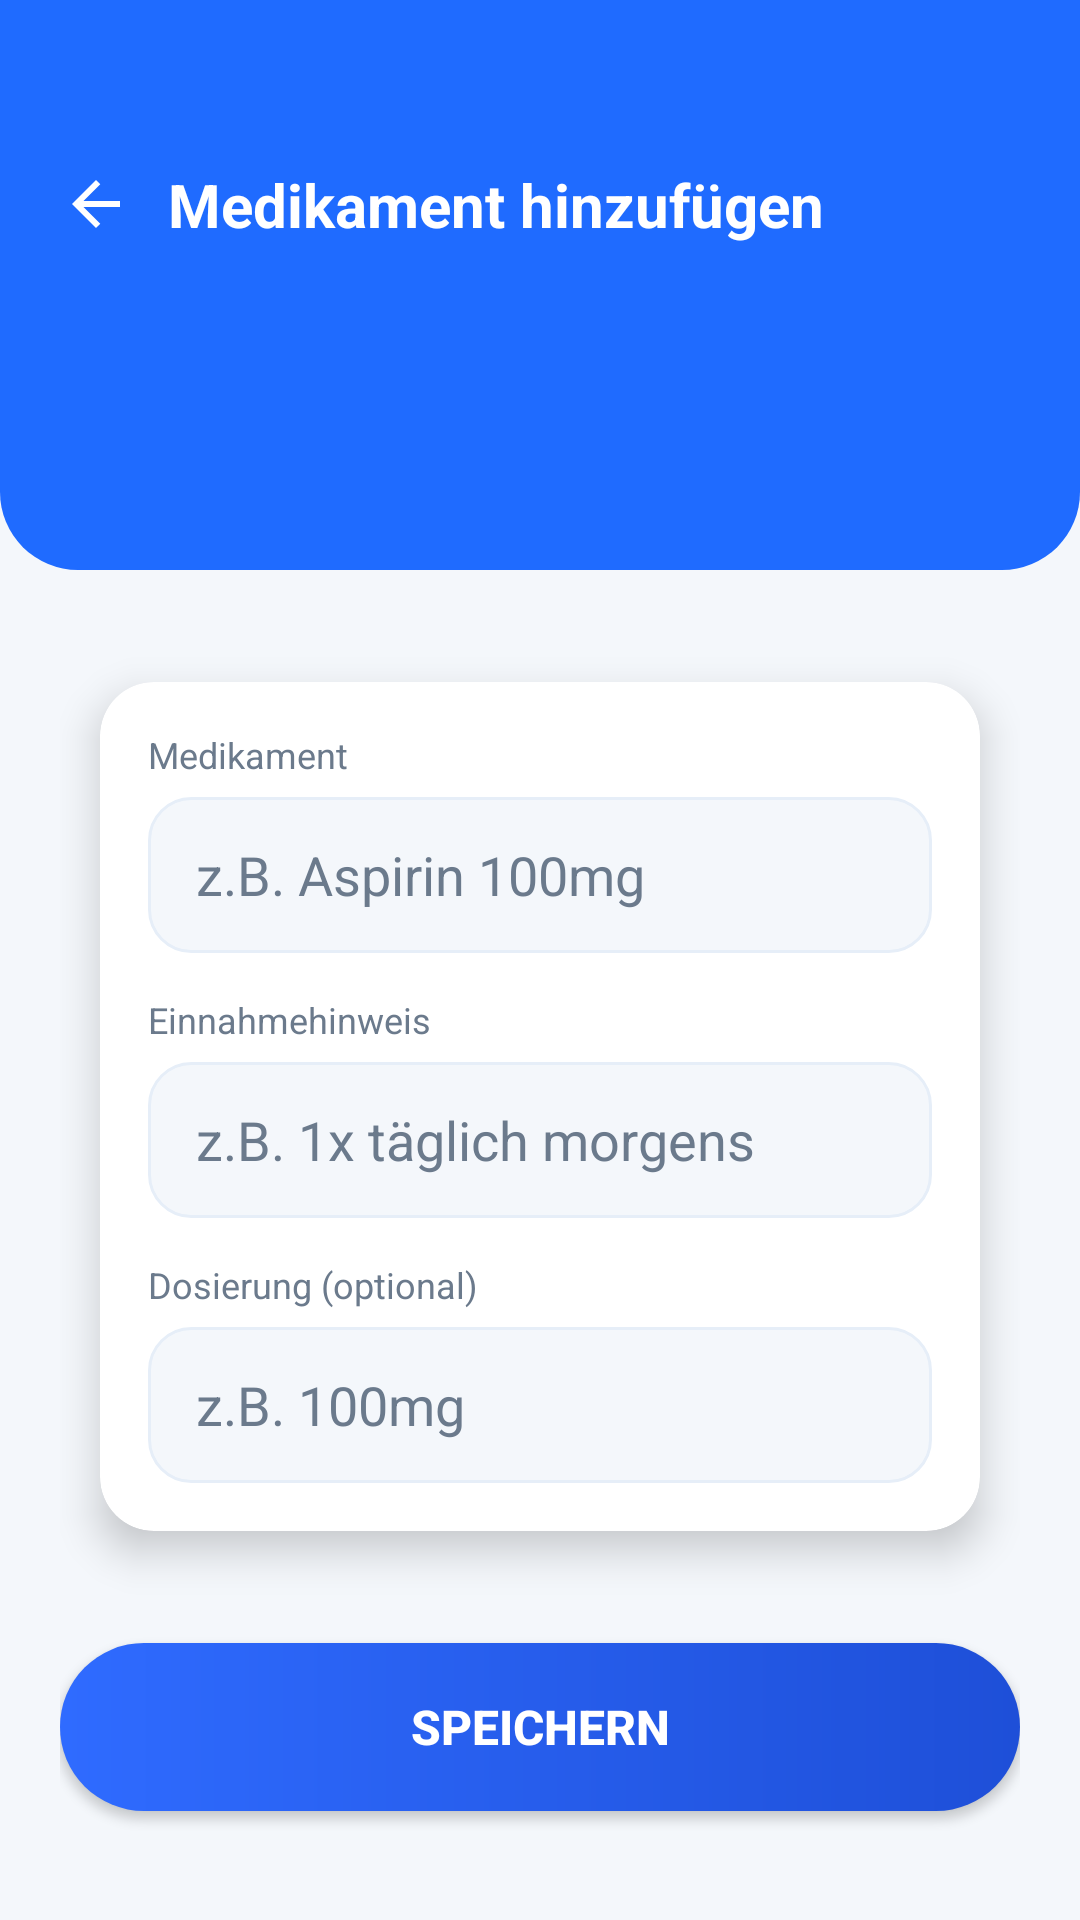

Screen size 1080 × 1920. Icon name, then its center in pixels as (x=x, y=y):
back: (x=96, y=204)
